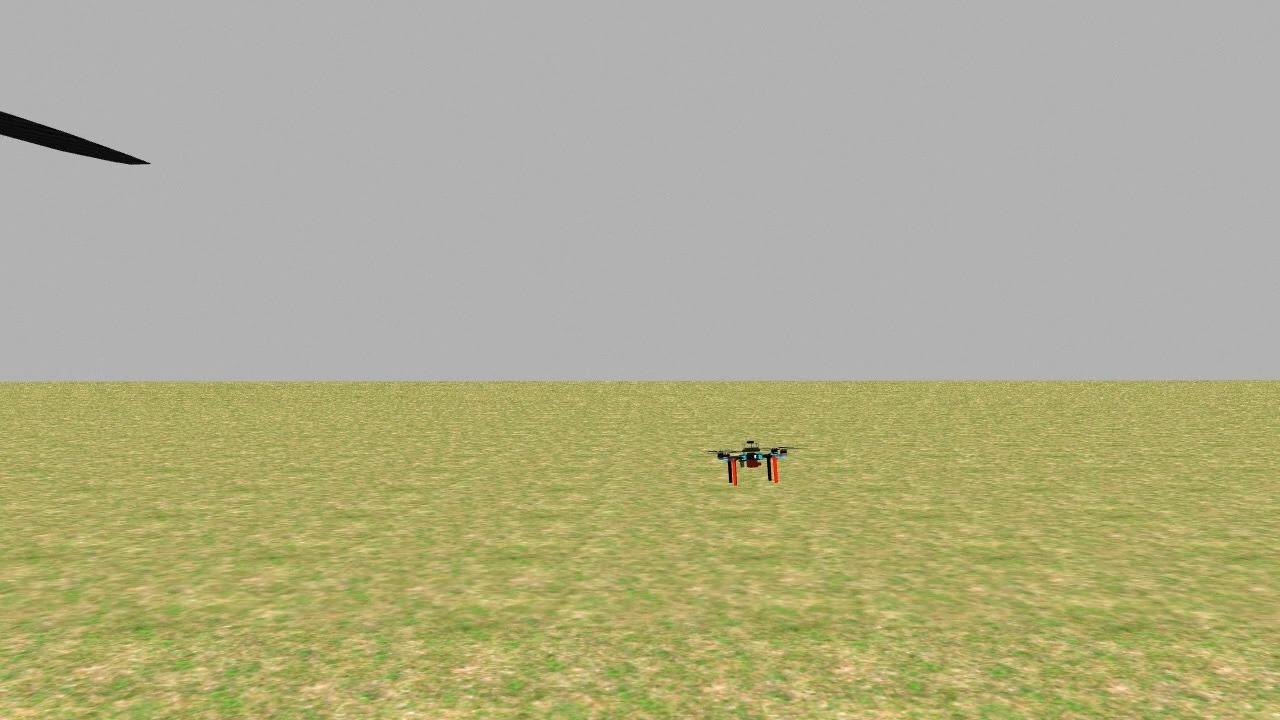UAV: (696, 420, 811, 496)
